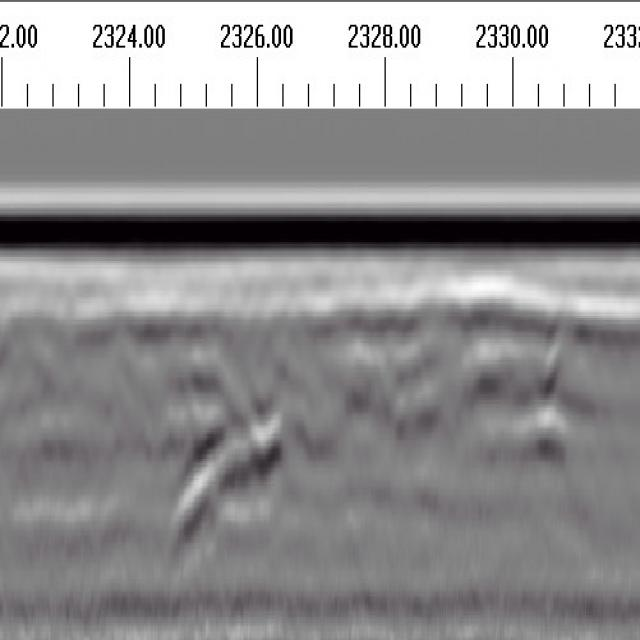loose: (171, 274, 571, 539)
